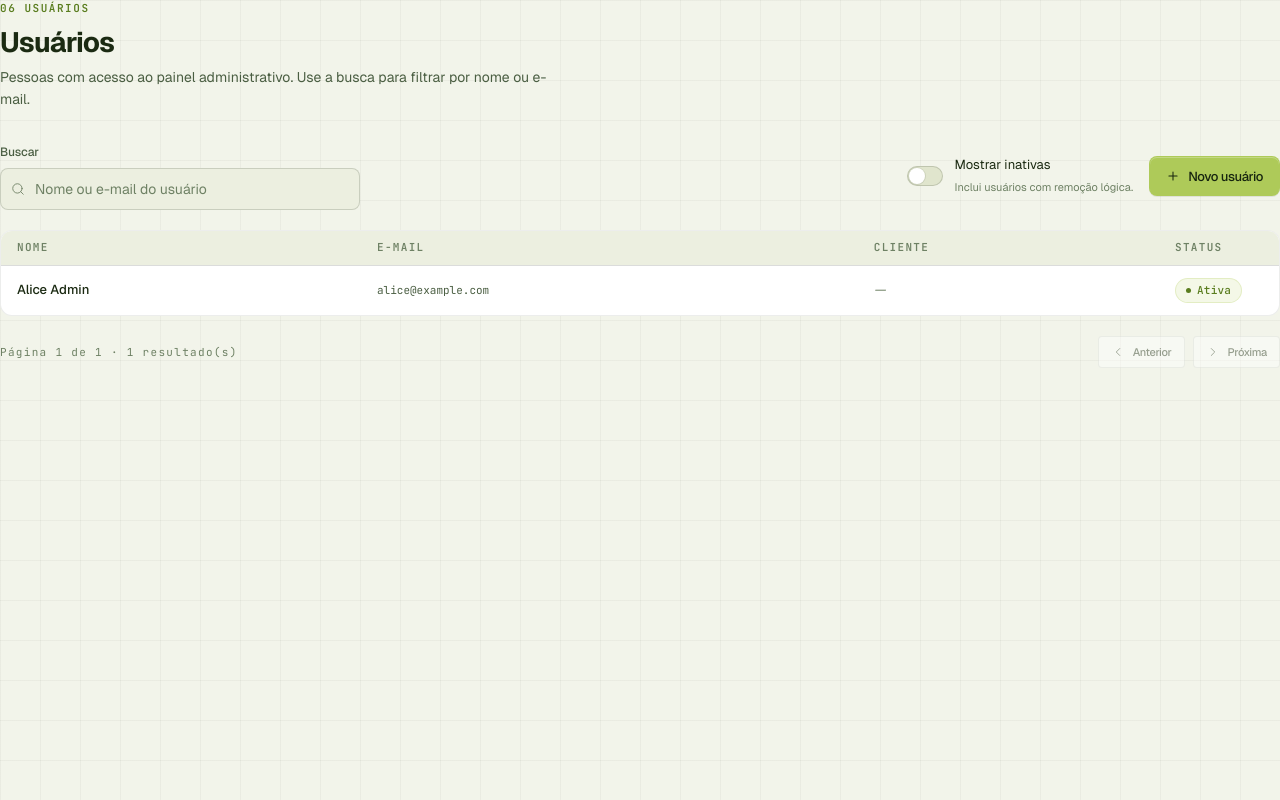
Scenario: UsersListShellPage — criação (Issue #78) › abertura e fechamento do modal › clicar em "Novo usuário" abre o diálogo com os campos do form
Click the button with test id "users-create-open" at (1215, 176), box [1149, 156, 1279, 196]
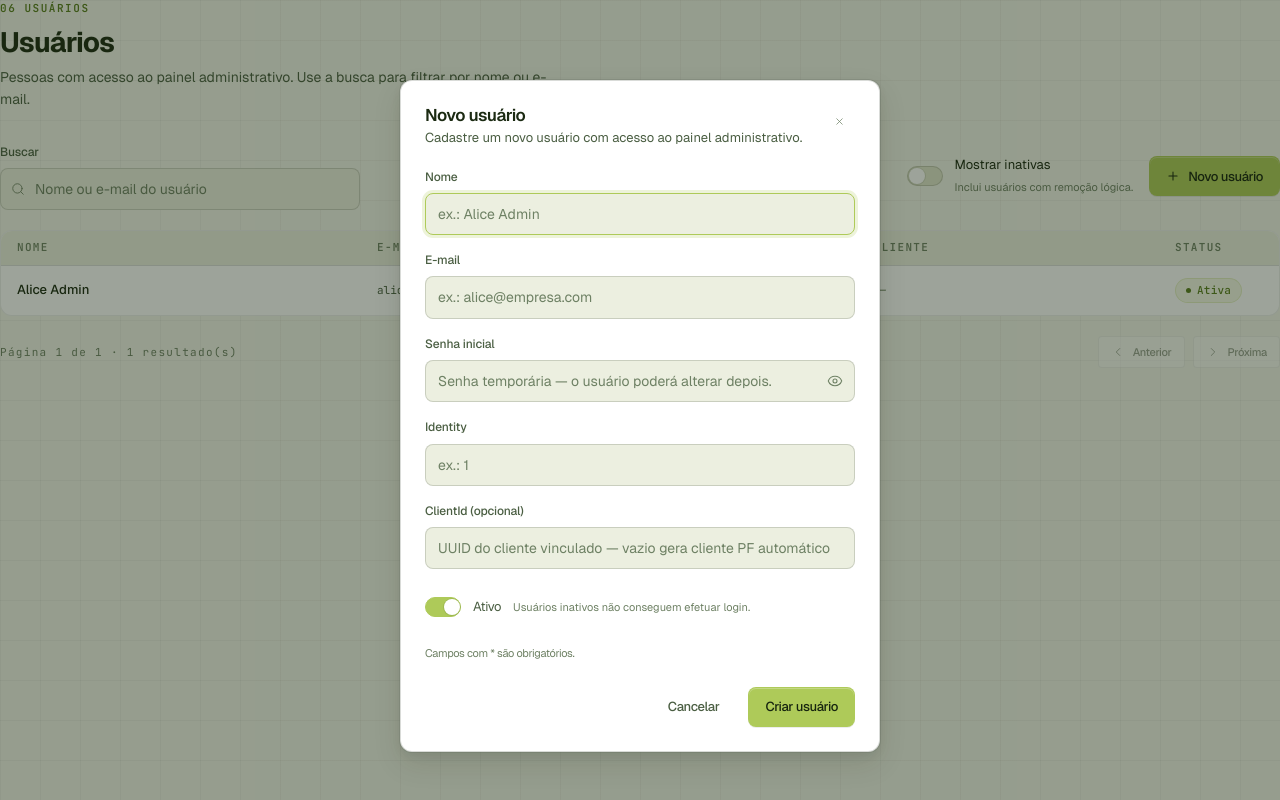
Result: the dialog is shown at [400, 80, 880, 752]
Result: the field with test id "new-user-name" is shown at [425, 193, 855, 235]
Result: the field with test id "new-user-email" is shown at [425, 276, 855, 319]
